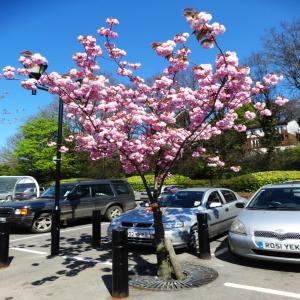Vehicle-registration-plate: (260, 245, 300, 251), (129, 231, 148, 240), (1, 219, 7, 222)
